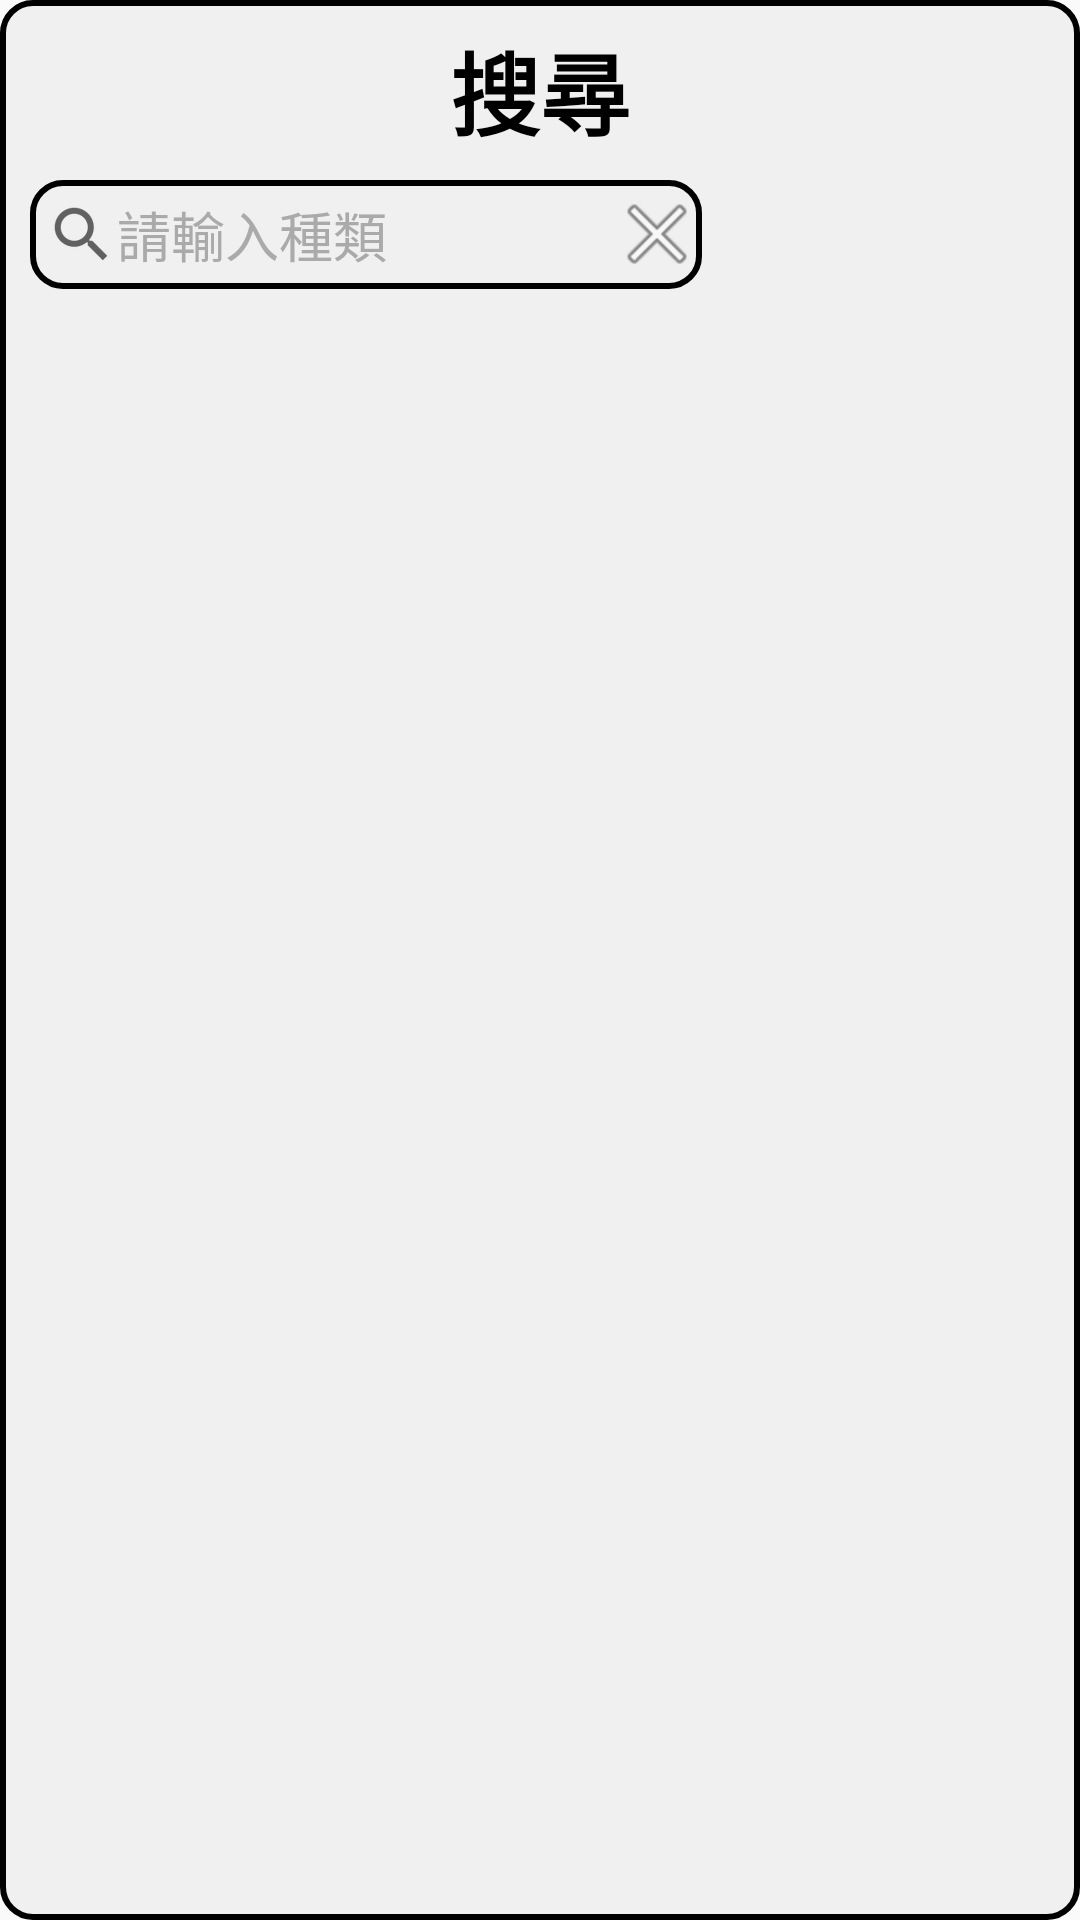

Point at icon controls on the screen. Image size 1080 × 1920, points as point (x, y).
close clear cancel: point (657, 234)
